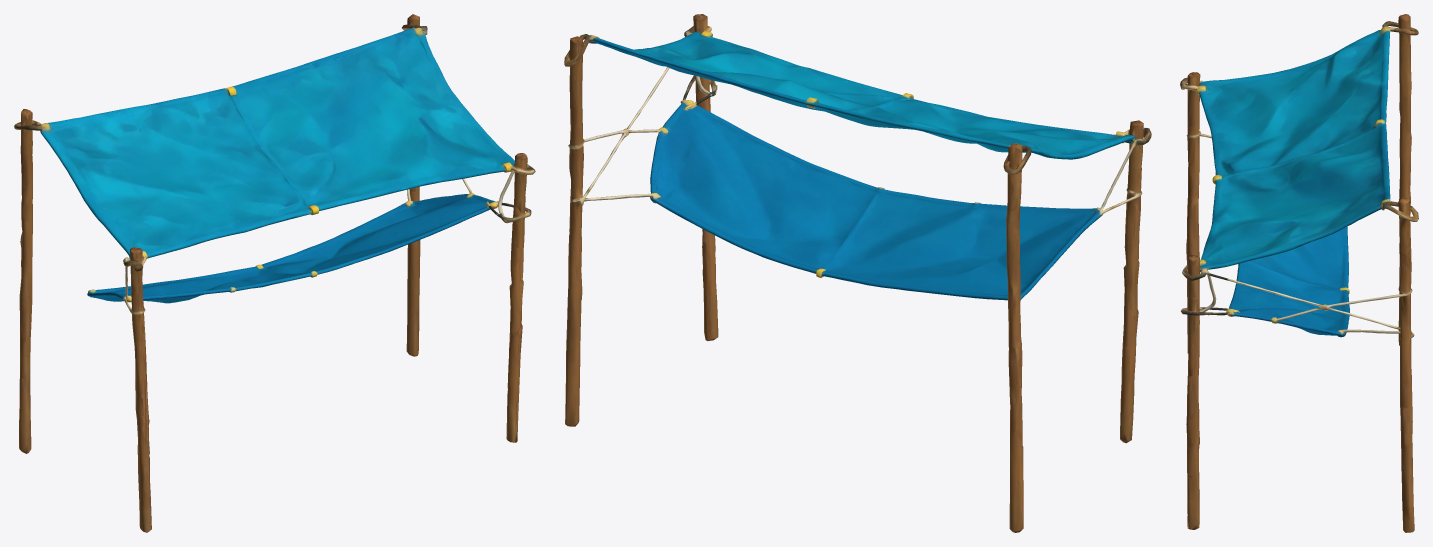
The model's file is tarp.glb.
The picture shows the model from 3 angles, left to right: view 1: azimuth 30°, elevation 25°; view 2: azimuth 150°, elevation 25°; view 3: azimuth 270°, elevation 25°; orthographic projection. The views are drawn at different scales.
Parts seen in each view (by area): view 1: tripo_node_c1b4499c-9ec2-4ccc-bdff-a2fafcf9c6e9; view 2: tripo_node_c1b4499c-9ec2-4ccc-bdff-a2fafcf9c6e9; view 3: tripo_node_c1b4499c-9ec2-4ccc-bdff-a2fafcf9c6e9.
Boxes of the visible parts, box(x1,y1,x2,y2) form: tripo_node_c1b4499c-9ec2-4ccc-bdff-a2fafcf9c6e9: box(14, 14, 535, 532); tripo_node_c1b4499c-9ec2-4ccc-bdff-a2fafcf9c6e9: box(564, 14, 1151, 532); tripo_node_c1b4499c-9ec2-4ccc-bdff-a2fafcf9c6e9: box(1180, 14, 1418, 532).
Size of the model in its own units: 1 by 0.8049 by 0.5206.
Materials: 1 (1 with a texture image).
